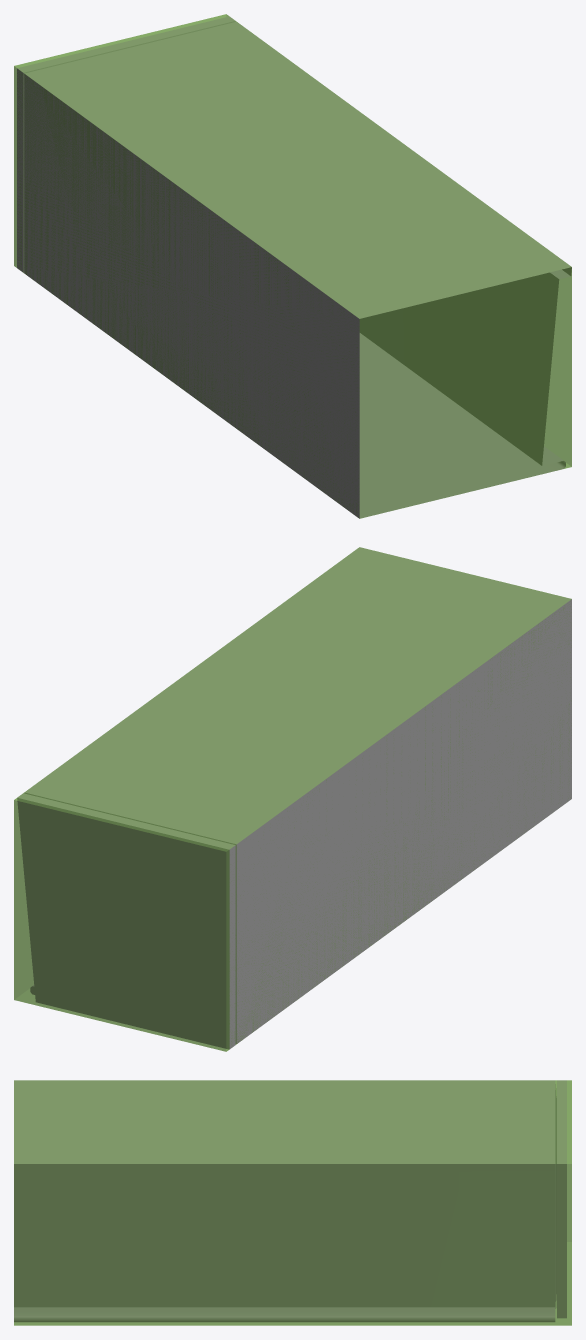
The model's file is M_md_StallSign_end_02_m.fbx.
3 renders of one model, top to bottom at view 1: azimuth 30°, elevation 25°; view 2: azimuth 150°, elevation 25°; view 3: azimuth 270°, elevation 25°, orthographic. The views are drawn at different scales.
Visible parts, largest first — view 1: M_md_StallSign_end_02_m, M_md_StallSign_end_02_m_col_01; view 2: M_md_StallSign_end_02_m, M_md_StallSign_end_02_m_col_01; view 3: M_md_StallSign_end_02_m_col_01, M_md_StallSign_end_02_m.
Boxes of the visible parts, x1,y1,x2,y2 form: M_md_StallSign_end_02_m: (17,16,571,518); M_md_StallSign_end_02_m_col_01: (14,14,571,518); M_md_StallSign_end_02_m: (17,547,571,1049); M_md_StallSign_end_02_m_col_01: (14,547,571,1051); M_md_StallSign_end_02_m_col_01: (14,1080,571,1325); M_md_StallSign_end_02_m: (14,1080,566,1322).
Size of the model in its own units: 35.83 by 32.23 by 101.
